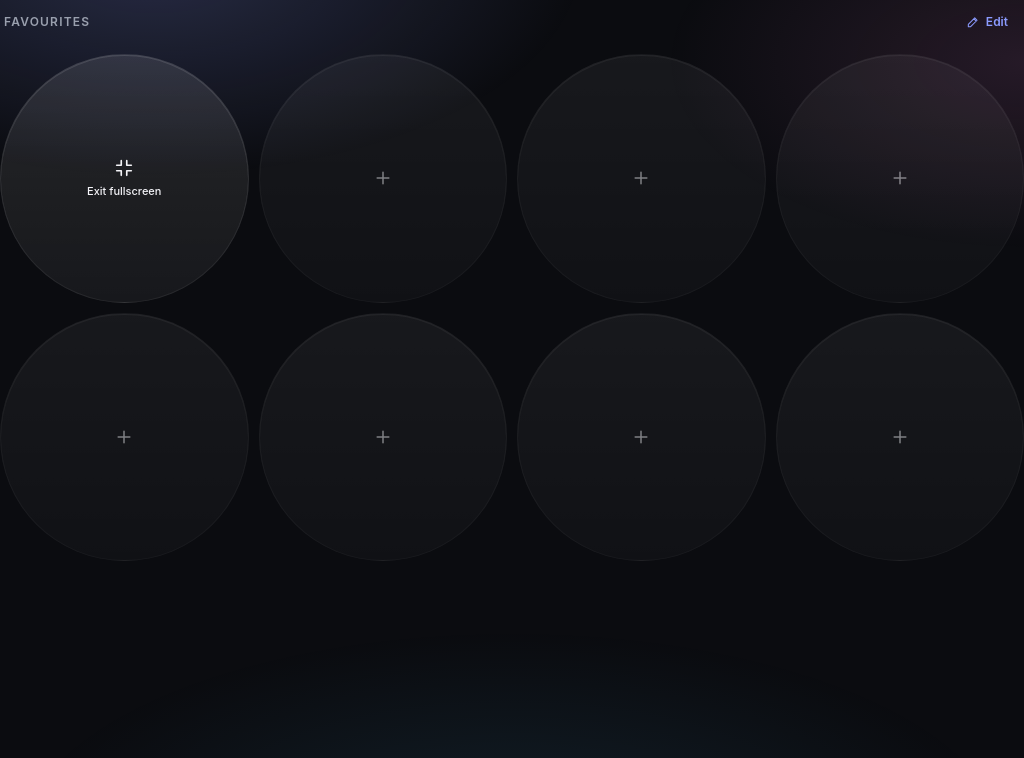
favourites › hides buttons an older PC cannot do, and greys them if already placed
Expected: the button "Exit fullscreen" is disabled, [0,54,248,302]
Click the button named "Add a favourite to slot 2": (383, 178) [258,54,507,302]
(page scrolled)
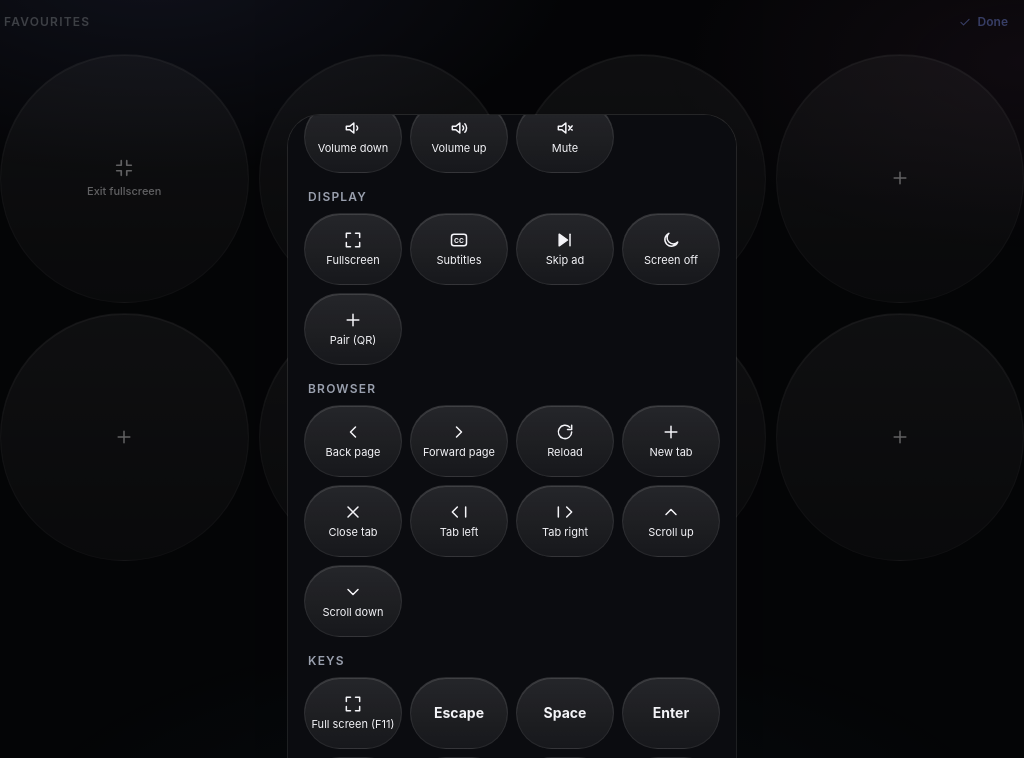
Result: the button "New tab" is shown at [622,405,720,477]
